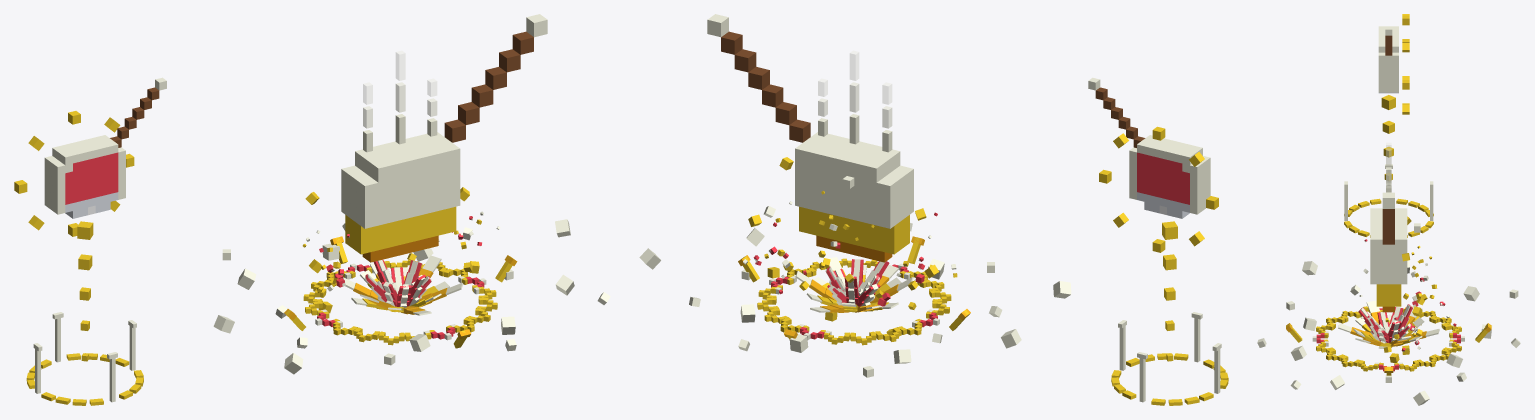
Rendered from fx_execute.glb.
3 renders of one model, left to right at view 1: azimuth 30°, elevation 25°; view 2: azimuth 150°, elevation 25°; view 3: azimuth 270°, elevation 25°, orthographic. The views are drawn at different scales.
Parts seen in each view (by area): view 1: execute_drop_cleaver_Mesh1, execute_B_the_drop_Mesh1, execute_A_the_mark_Mesh1, execute_mark_clock_ring_Mesh1, execute_B_the_drop_Mesh2, execute_B_the_drop_Mesh3; view 2: execute_drop_cleaver_Mesh1, execute_B_the_drop_Mesh1, execute_A_the_mark_Mesh1, execute_mark_clock_ring_Mesh1, execute_B_the_drop_Mesh2, execute_B_the_drop_Mesh3; view 3: execute_B_the_drop_Mesh1, execute_drop_cleaver_Mesh1, execute_A_the_mark_Mesh1, execute_mark_clock_ring_Mesh1.
Boxes of the visible parts, x1,y1,x2,y2 form: execute_drop_cleaver_Mesh1: (341, 14, 547, 262); execute_B_the_drop_Mesh1: (213, 114, 610, 374); execute_A_the_mark_Mesh1: (26, 77, 166, 405); execute_mark_clock_ring_Mesh1: (14, 111, 134, 236); execute_B_the_drop_Mesh2: (363, 82, 437, 128); execute_B_the_drop_Mesh3: (363, 51, 436, 104); execute_drop_cleaver_Mesh1: (707, 14, 913, 262); execute_B_the_drop_Mesh1: (639, 114, 1071, 377); execute_A_the_mark_Mesh1: (1088, 77, 1228, 405); execute_mark_clock_ring_Mesh1: (1099, 126, 1218, 252); execute_B_the_drop_Mesh2: (818, 82, 892, 128); execute_B_the_drop_Mesh3: (818, 51, 891, 104); execute_B_the_drop_Mesh1: (1257, 186, 1520, 405); execute_drop_cleaver_Mesh1: (1370, 192, 1407, 312); execute_A_the_mark_Mesh1: (1344, 26, 1433, 237); execute_mark_clock_ring_Mesh1: (1402, 14, 1409, 114).
Bounding box in the file's own units: 8.95 × 4.44 × 4.62.
